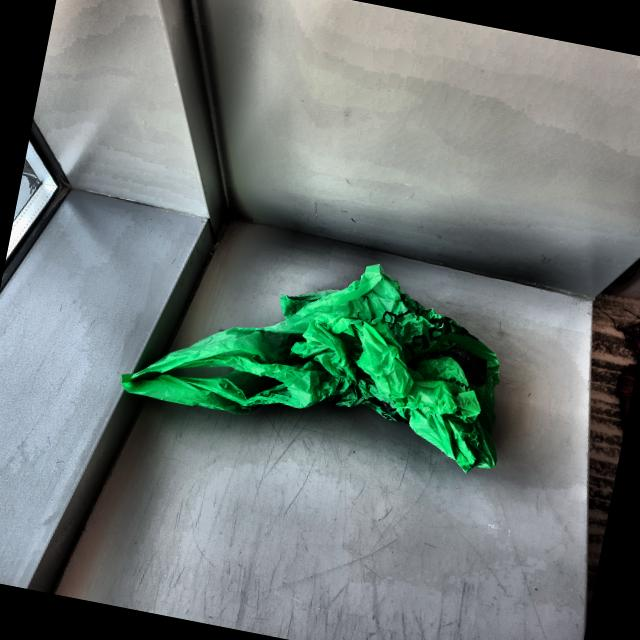plastic bag: (109, 228, 530, 482)
